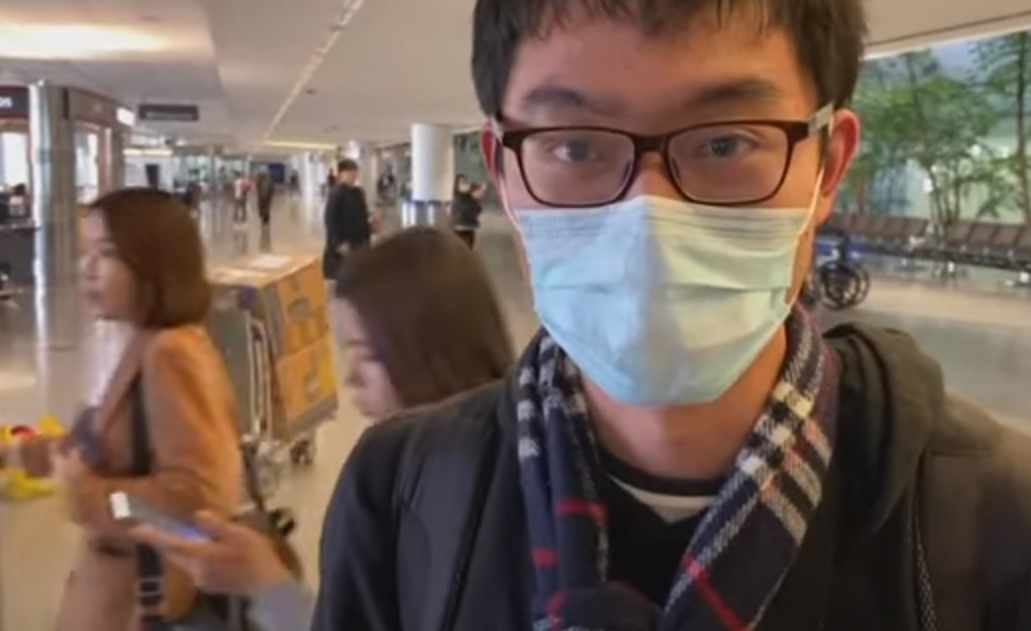face_no_mask: (333, 229, 501, 420), (79, 189, 208, 323)
face_with_mask: (475, 6, 866, 412)
